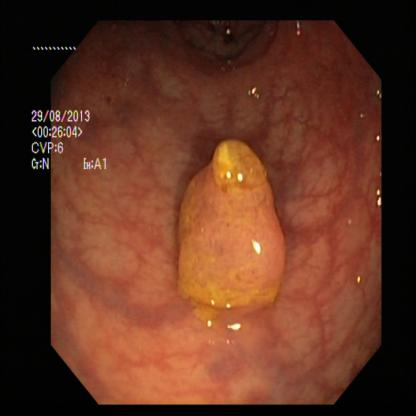Labels: (25, 98, 121, 185)
Polyps: (169, 131, 287, 330)
